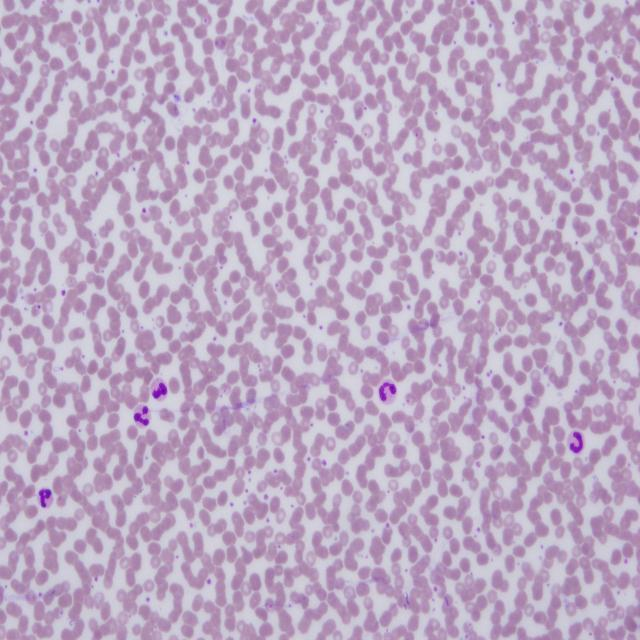cell: (379, 379, 398, 405), (150, 378, 168, 402), (568, 430, 585, 454), (134, 406, 149, 426), (39, 488, 52, 508)
